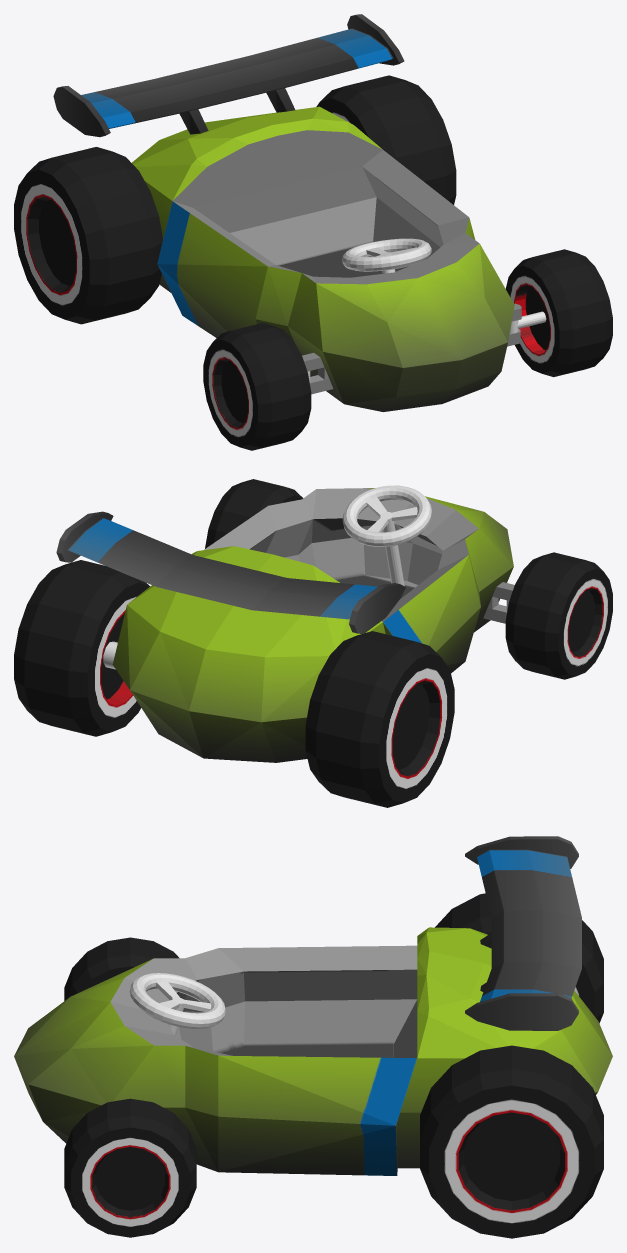
File: Kart_test.FBX
The picture shows the model from 3 angles, top to bottom: view 1: azimuth 30°, elevation 25°; view 2: azimuth 150°, elevation 25°; view 3: azimuth 270°, elevation 25°; orthographic projection. The views are drawn at different scales.
Visible parts, largest first — view 1: Box002, Cylinder001, Box003, Cylinder008, Cylinder005, Cylinder007, Cylinder006; view 2: Box002, Cylinder001, Cylinder007, Box003, Cylinder008, Cylinder006, Cylinder005; view 3: Box002, Cylinder007, Box003, Cylinder005, Cylinder006, Cylinder001, Cylinder008.
Part boxes in pixels (x1=…): Box002: x1=132, y1=106, x2=521, y2=411; Cylinder001: x1=14, y1=147, x2=162, y2=324; Box003: x1=53, y1=14, x2=404, y2=137; Cylinder008: x1=203, y1=323, x2=311, y2=450; Cylinder005: x1=506, y1=249, x2=612, y2=377; Cylinder007: x1=316, y1=75, x2=456, y2=204; Cylinder006: x1=342, y1=238, x2=431, y2=273; Box002: x1=112, y1=488, x2=514, y2=762; Cylinder001: x1=305, y1=631, x2=454, y2=807; Cylinder007: x1=14, y1=560, x2=149, y2=736; Box003: x1=56, y1=511, x2=405, y2=633; Cylinder008: x1=505, y1=552, x2=612, y2=679; Cylinder006: x1=342, y1=485, x2=431, y2=586; Cylinder005: x1=205, y1=479, x2=303, y2=548; Box002: x1=14, y1=927, x2=612, y2=1175; Cylinder007: x1=420, y1=1045, x2=603, y2=1238; Box003: x1=465, y1=836, x2=581, y2=1030; Cylinder005: x1=64, y1=1098, x2=196, y2=1237; Cylinder006: x1=129, y1=973, x2=225, y2=1035; Cylinder001: x1=435, y1=893, x2=603, y2=1023; Cylinder008: x1=64, y1=937, x2=179, y2=1000.
Bounding box in the file's own units: 99.15 × 54.81 × 128.
